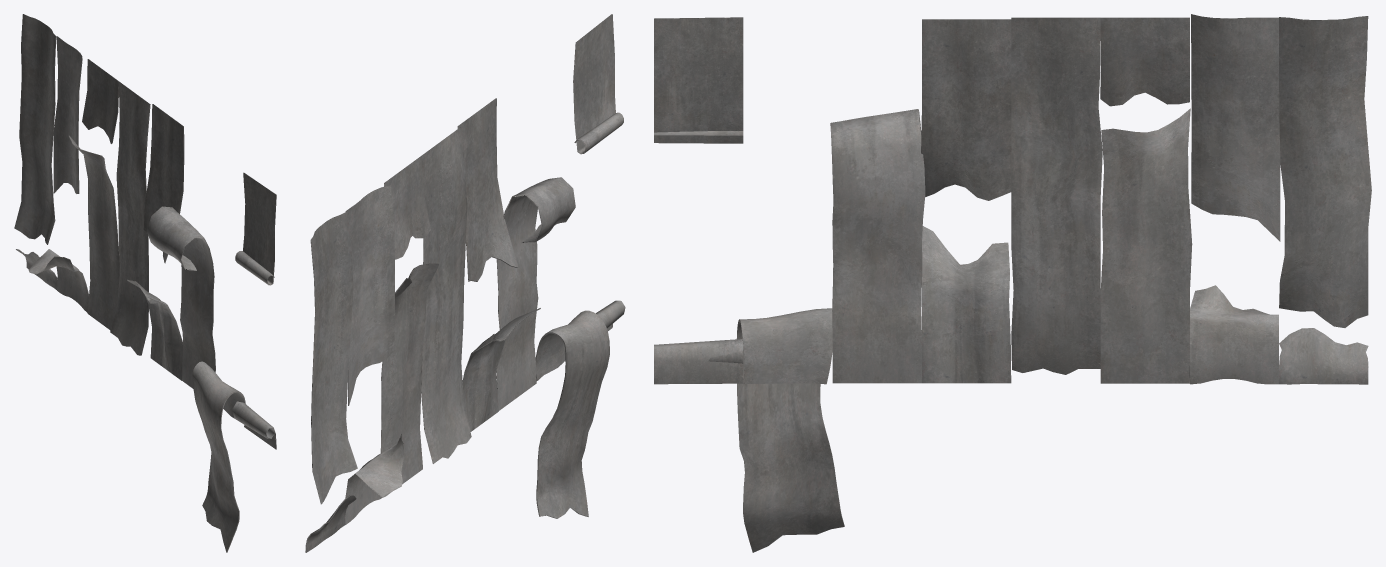
The model's file is Psychiatric_Ward_Infirmary_Wall_Paper_3.glb.
3 renders of one model, left to right at view 1: azimuth 30°, elevation 25°; view 2: azimuth 150°, elevation 25°; view 3: azimuth 270°, elevation 25°, orthographic. The views are drawn at different scales.
Visible parts, largest first — view 1: Wall_Paper_5, Wall_Paper_8, Wall_Paper_3, Wall_Paper_2, Wall_Paper_10, Wall_Paper_11, Wall_Paper_4, Wall_Paper_1, Wall_Paper_9, Wall_Paper_6, Wall_Paper_7, Wall_Paper_13 (+1 smaller); view 2: Wall_Paper_5, Wall_Paper_8, Wall_Paper_2, Wall_Paper_3, Wall_Paper_11, Wall_Paper_10, Wall_Paper_4, Wall_Paper_1, Wall_Paper_9, Wall_Paper_6, Wall_Paper_7, Wall_Paper_12 (+1 smaller); view 3: Wall_Paper_5, Wall_Paper_8, Wall_Paper_3, Wall_Paper_10, Wall_Paper_2, Wall_Paper_11, Wall_Paper_4, Wall_Paper_9, Wall_Paper_1, Wall_Paper_6, Wall_Paper_7, Wall_Paper_12 (+1 smaller).
Boxes of the visible parts, box(x1,y1,x2,y2) form: Wall_Paper_5: box(110, 81, 150, 355); Wall_Paper_8: box(14, 14, 56, 244); Wall_Paper_3: box(146, 206, 215, 388); Wall_Paper_2: box(192, 361, 245, 552); Wall_Paper_10: box(69, 135, 119, 330); Wall_Paper_11: box(53, 36, 82, 193); Wall_Paper_4: box(143, 104, 184, 263); Wall_Paper_1: box(235, 172, 276, 285); Wall_Paper_9: box(127, 279, 183, 380); Wall_Paper_6: box(82, 59, 118, 143); Wall_Paper_7: box(28, 249, 88, 312); Wall_Paper_13: box(232, 401, 276, 449); Wall_Paper_5: box(421, 127, 471, 463); Wall_Paper_8: box(310, 211, 357, 504); Wall_Paper_2: box(535, 310, 609, 518); Wall_Paper_3: box(496, 177, 575, 410); Wall_Paper_11: box(345, 185, 394, 405); Wall_Paper_10: box(380, 263, 438, 496); Wall_Paper_4: box(457, 98, 518, 281); Wall_Paper_1: box(573, 14, 623, 154); Wall_Paper_9: box(462, 308, 540, 431); Wall_Paper_6: box(384, 155, 430, 259); Wall_Paper_7: box(345, 434, 404, 524); Wall_Paper_12: box(305, 495, 356, 552); Wall_Paper_5: box(1011, 17, 1102, 374); Wall_Paper_8: box(1279, 16, 1371, 327); Wall_Paper_3: box(830, 109, 925, 383); Wall_Paper_10: box(1100, 108, 1192, 383); Wall_Paper_2: box(736, 308, 844, 552); Wall_Paper_11: box(1191, 14, 1280, 241); Wall_Paper_4: box(921, 19, 1011, 200); Wall_Paper_9: box(922, 226, 1011, 383); Wall_Paper_1: box(654, 17, 743, 143); Wall_Paper_6: box(1100, 17, 1189, 106); Wall_Paper_7: box(1189, 285, 1278, 384); Wall_Paper_12: box(1279, 328, 1368, 384).
Size of the model in its own units: 0.3699 by 3.36 by 4.02.
1 material, 1 textured.
